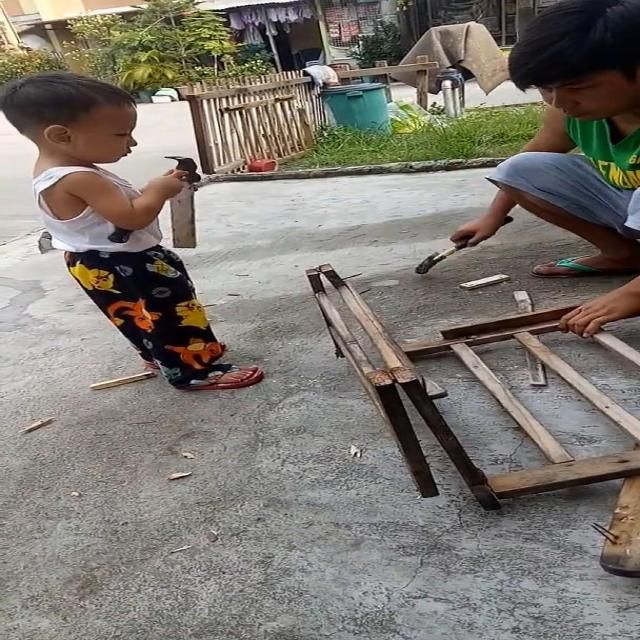hammer: (108, 154, 202, 244), (415, 214, 515, 274)
